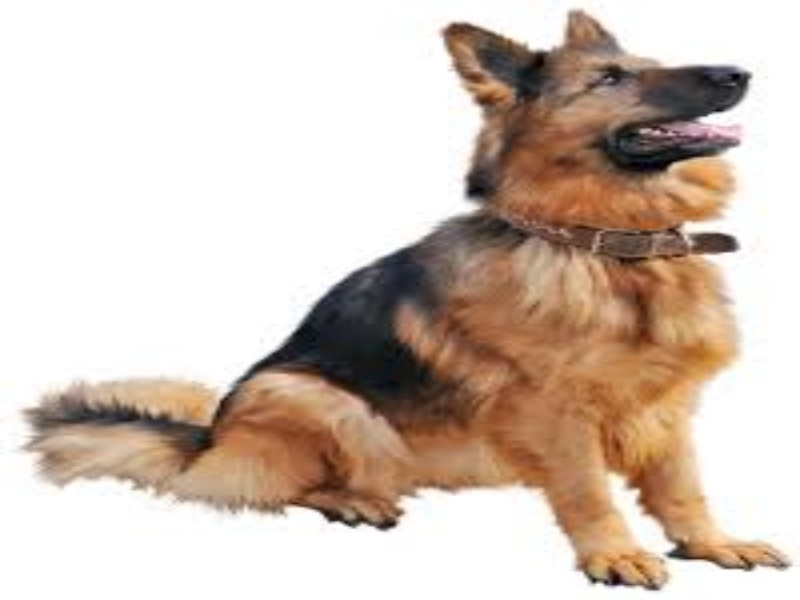dog: (10, 5, 800, 588)
